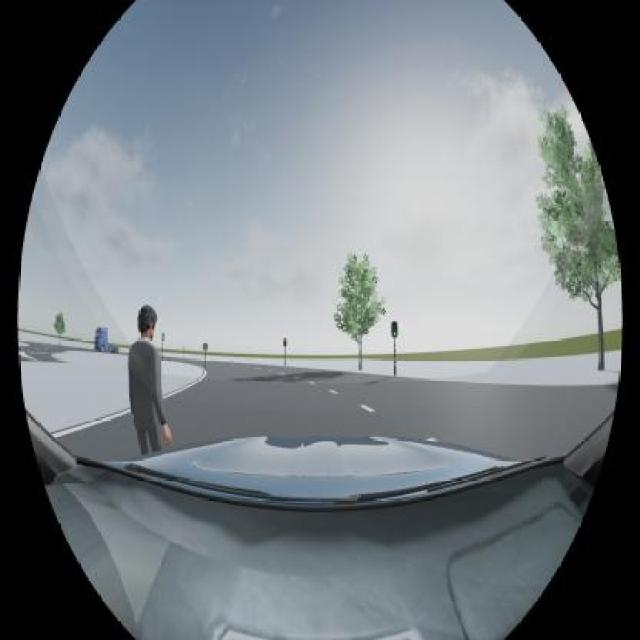forb_speed_over_70: (203, 342, 208, 350)
